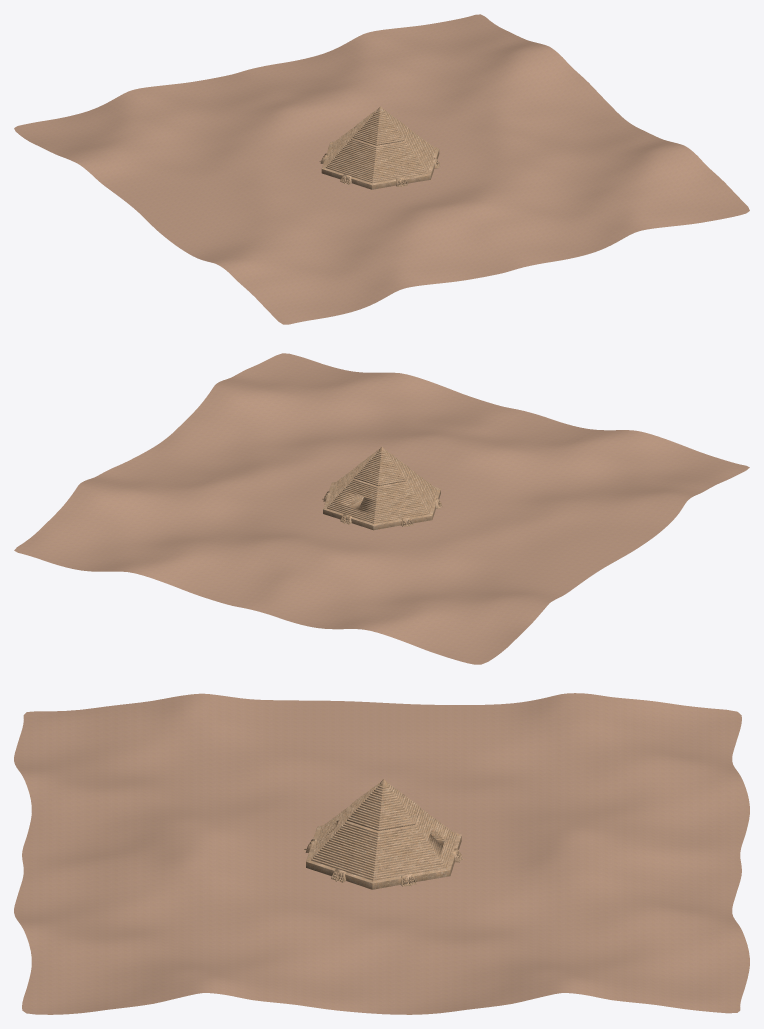
File: First-transformed.glb
The picture shows the model from 3 angles, top to bottom: view 1: azimuth 30°, elevation 25°; view 2: azimuth 150°, elevation 25°; view 3: azimuth 270°, elevation 25°; orthographic projection. The views are drawn at different scales.
Parts seen in each view (by area): view 1: First_Pyramid; view 2: First_Pyramid; view 3: First_Pyramid.
Part boxes in pixels (bbox=[...]): First_Pyramid: bbox=[14, 14, 749, 324]; First_Pyramid: bbox=[14, 353, 749, 664]; First_Pyramid: bbox=[14, 693, 749, 1014].
Bounding box in the file's own units: 23.21 × 2.97 × 23.42.
Materials: 2 (2 with a texture image).
